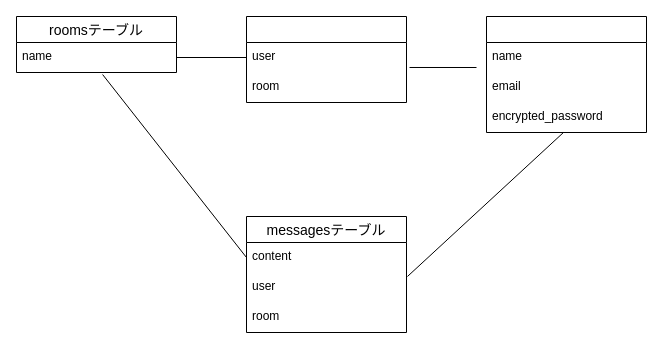
Some shapes in this 663 by 349 pixel diagram are drawn without their labels. Each missing label, with the box of its shape:
room_usersテーブル: (246, 16, 406, 102)
usersテーブル: (486, 16, 646, 132)
